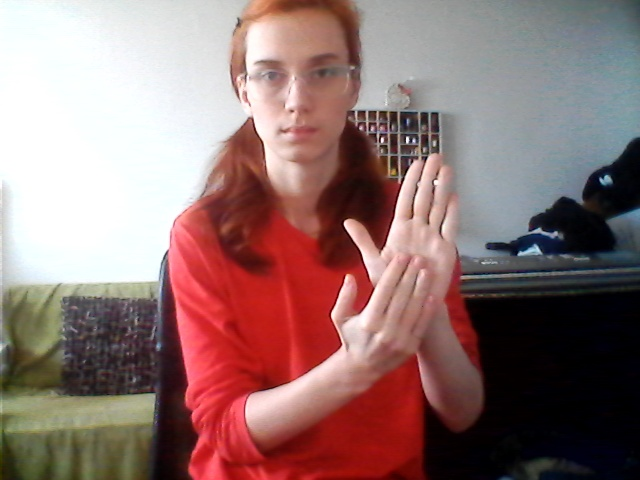m: (332, 151, 462, 377)
